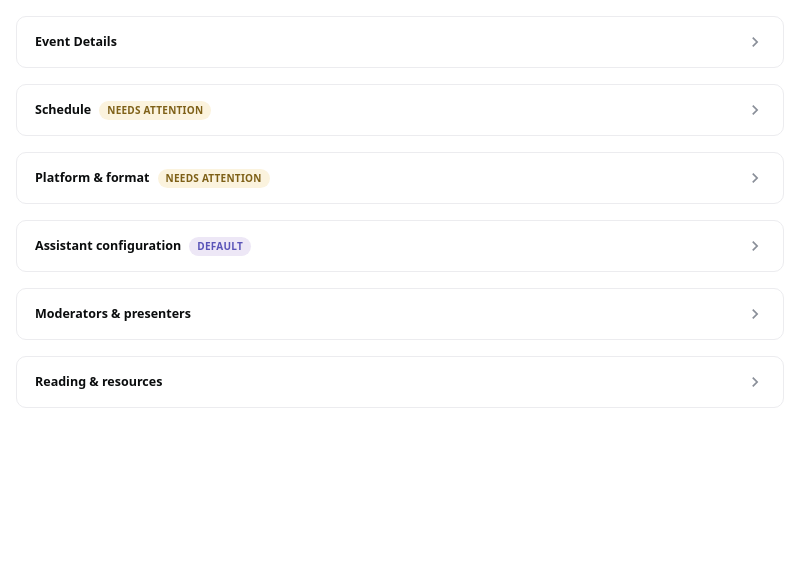
EventDetails › Event Details section › shows the needs-attention callout for an unconfirmed (draft) event
Click the button "Event Details". click: (76, 41)
box: [17,17,783,67]
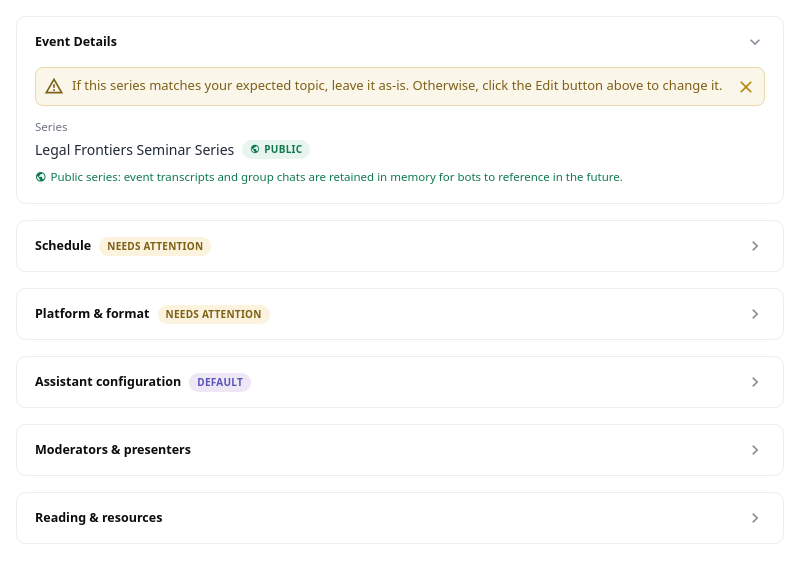
Expected: the text "leave it as-is" is shown, [72,76,722,94]
